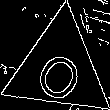O_NE: (28, 35, 89, 102)
